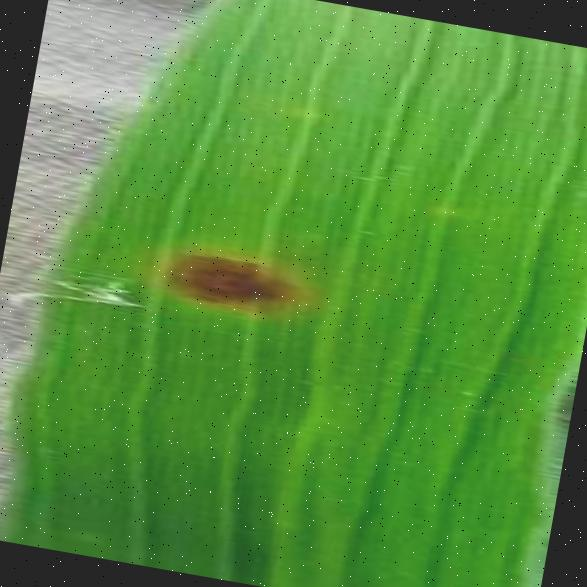Brown_Spot: (116, 206, 324, 343)
